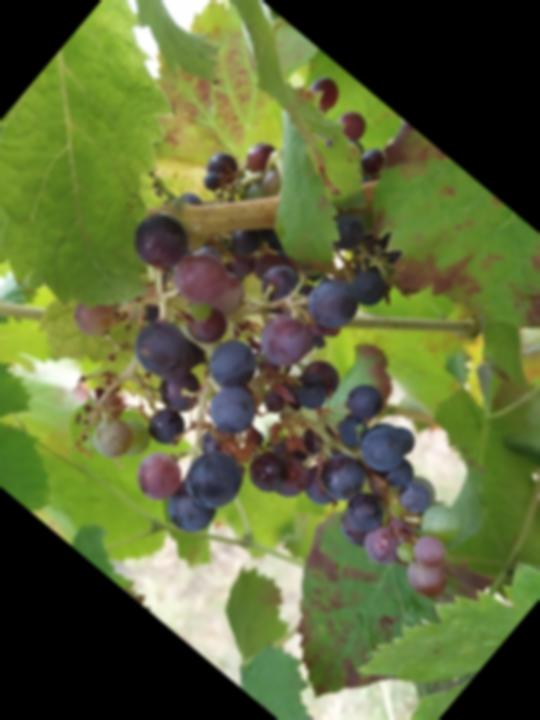grape: (0, 43, 540, 699)
